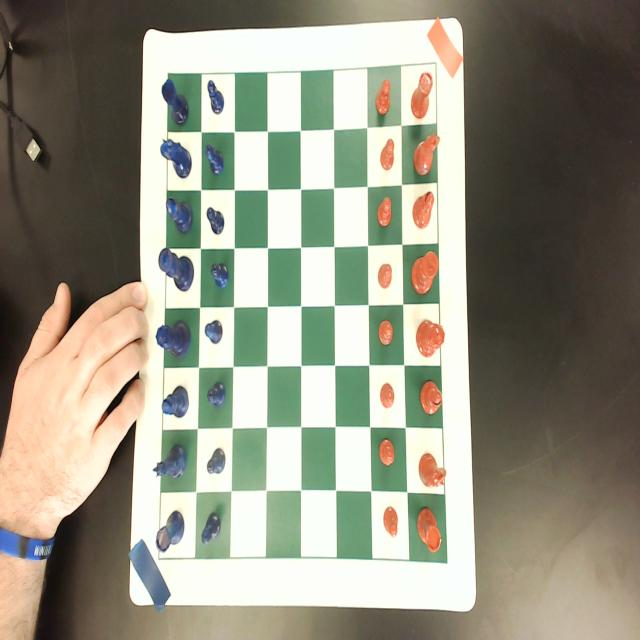B: (165, 198, 193, 234), (161, 383, 189, 418)
K: (158, 248, 194, 292)
N: (152, 442, 187, 482), (160, 137, 192, 180)
P: (201, 510, 221, 545), (207, 78, 225, 116), (204, 143, 224, 176), (206, 445, 227, 476), (206, 205, 226, 237), (210, 261, 230, 290), (204, 318, 224, 345), (206, 380, 225, 408)
Q: (156, 320, 190, 358)
R: (161, 76, 189, 126), (156, 510, 184, 554)
b: (419, 380, 442, 418), (412, 190, 434, 229)
cb: (159, 63, 447, 564)
k: (411, 251, 438, 296)
n: (414, 130, 441, 176), (418, 451, 447, 489)
p: (374, 78, 391, 116), (380, 138, 395, 170), (378, 437, 394, 467), (383, 506, 398, 538), (377, 196, 392, 227), (380, 381, 394, 409), (378, 319, 393, 345), (378, 262, 392, 289)
q: (416, 319, 446, 357)
r: (417, 506, 442, 554), (410, 71, 433, 120)
